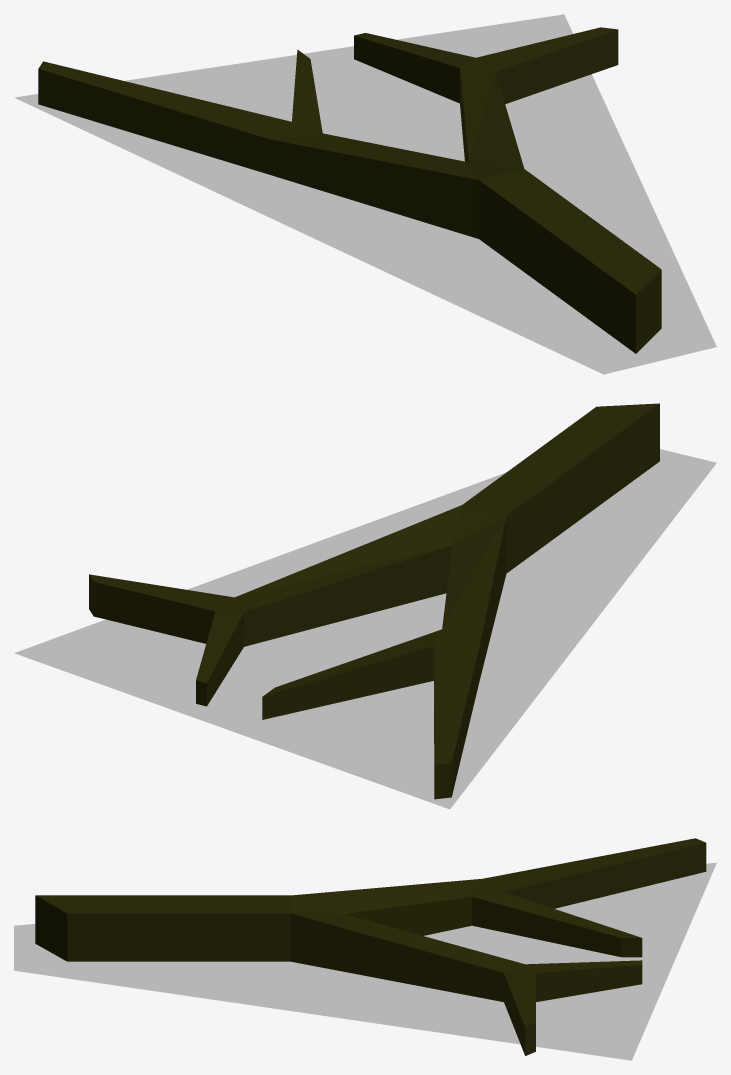
The picture shows the model from 3 angles, top to bottom: view 1: azimuth 30°, elevation 25°; view 2: azimuth 150°, elevation 25°; view 3: azimuth 270°, elevation 25°; orthographic projection. The views are drawn at different scales.
Parts seen in each view (by area): view 1: 2412; view 2: 2412; view 3: 2412.
Boxes of the visible parts, box(x1,y1,x2,y2) form: 2412: box(14, 14, 716, 374); 2412: box(14, 403, 716, 809); 2412: box(14, 838, 716, 1060).
Bounding box in the file's own units: 44 × 5 × 66.
